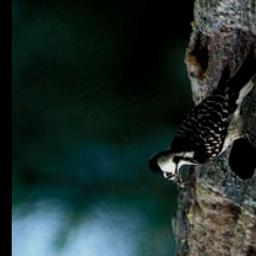Woodpecker: (146, 43, 256, 191)
